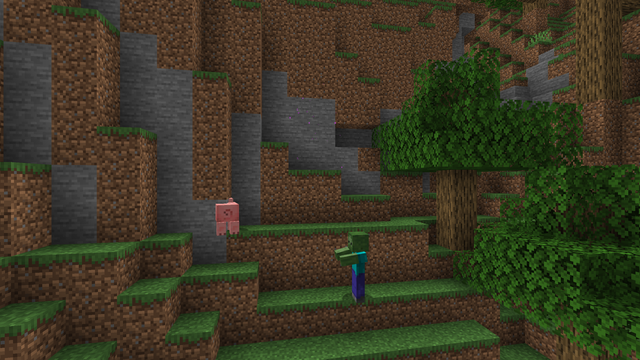cochons: (207, 201, 242, 234)
zombies: (345, 232, 370, 303)
